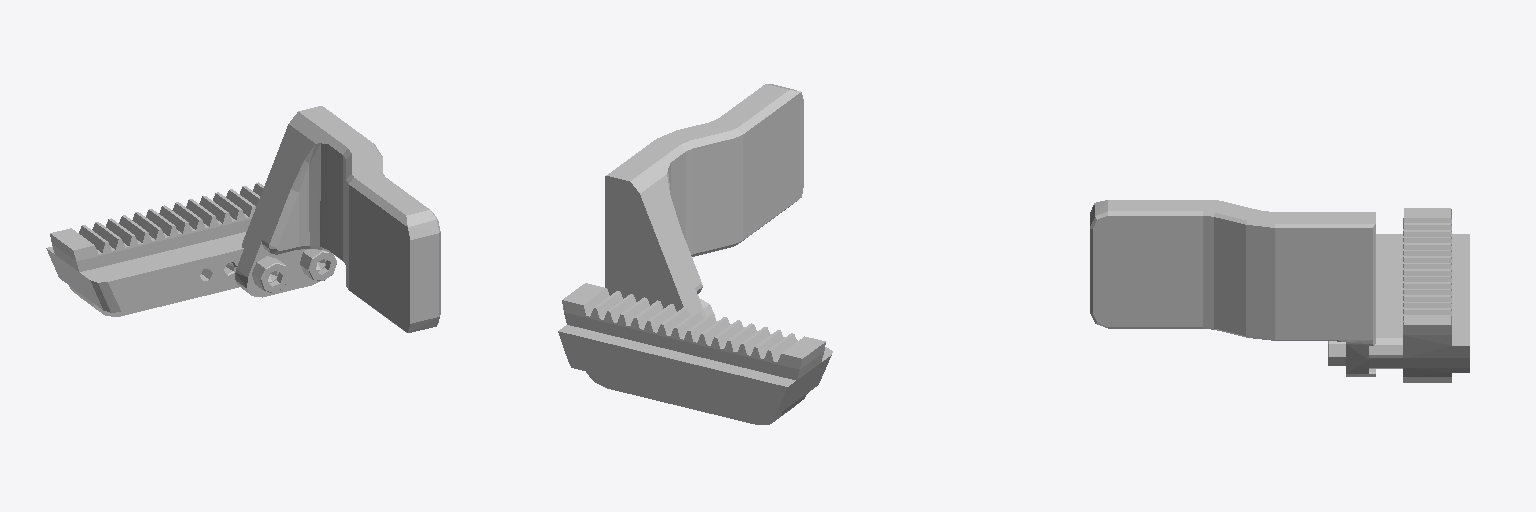
The model's file is FingerA.obj.
3 views of the same model, side by side, from view 1: azimuth 30°, elevation 25°; view 2: azimuth 150°, elevation 25°; view 3: azimuth 270°, elevation 25° (orthographic).
Bounding box in the file's own units: 4.52 × 3.14 × 6.19.